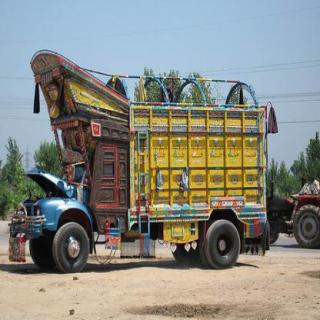Normal_vehicle: (5, 42, 283, 276)
